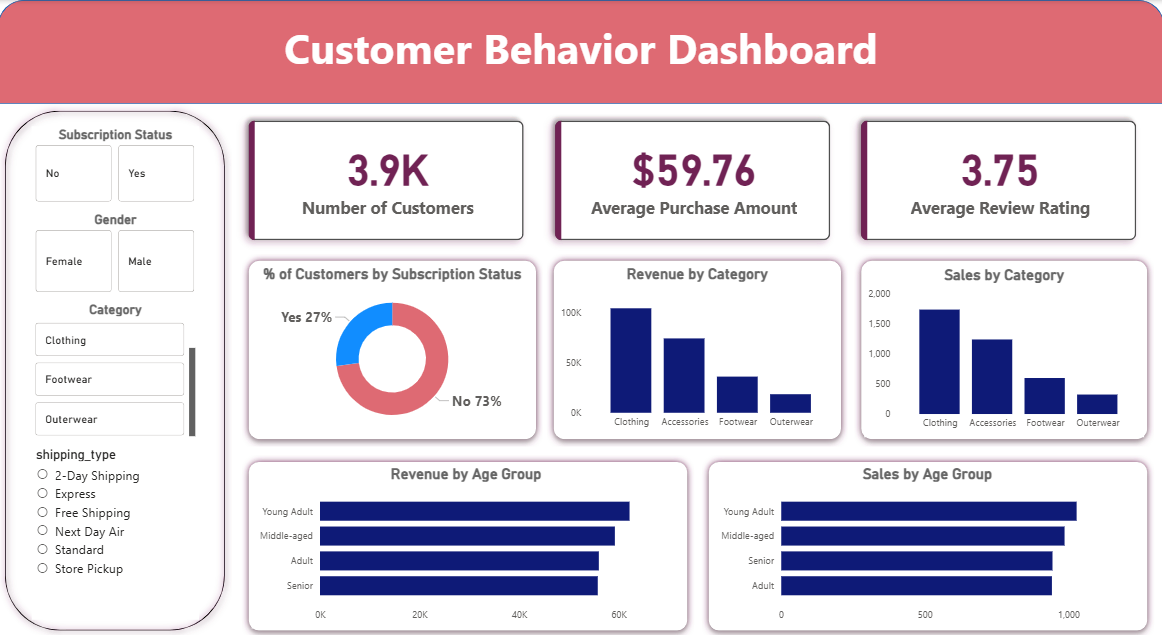

This screenshot's page, from the dashboard's own definition file:
{"tool":"powerbi","page":{"name":"Page 1","canvas":[1500,820],"ordinal":0},"visuals":[{"type":"cardVisual","fields":{"Data":["customer.Number of Customers","customer.Average Purchase Amount","customer.Average Review Rating"]},"box":[289.5,122.2,1210.9,220.3],"z":0},{"type":"shape","box":[0,0,1500.3,133.5],"z":1000},{"type":"textbox","box":[0,19.3,1500.3,114.2],"z":2000},{"type":"shape","box":[313.6,326.4,387.5,247.6],"z":3000},{"type":"donutChart","title":"% of Customers by Subscription Status","fields":{"Category":["customer.subscription_status"],"Y":["CountNonNull(customer.customer_id)"]},"box":[326.4,340.9,361.8,220.3],"z":4000},{"type":"shape","box":[705.9,326.4,387.5,247.6],"z":5000},{"type":"shape","box":[1101.5,326.4,385.9,247.6],"z":6000},{"type":"clusteredColumnChart","title":"Revenue by Category","fields":{"Y":["Sum(customer.purchase_amount)"],"Category":["customer.category"]},"box":[718.8,340.9,361.8,220.3],"z":7000},{"type":"clusteredColumnChart","title":"Sales by Category","fields":{"Y":["CountNonNull(customer.customer_id)"],"Category":["customer.category"]},"box":[1114.4,342.5,360.2,220.3],"z":8000},{"type":"shape","box":[0,133.5,300.7,686.6],"z":9000},{"type":"advancedSlicerVisual","title":"Subscription Status","fields":{"Values":["customer.subscription_status"]},"box":[43.4,162.4,215.5,102.9],"z":10000},{"type":"advancedSlicerVisual","title":"Gender","fields":{"Values":["customer.gender"]},"box":[43.4,271.8,215.5,109.3],"z":11000},{"type":"advancedSlicerVisual","title":"Category","fields":{"Values":["customer.category"]},"box":[43.4,387.5,215.5,175.3],"z":12000},{"type":"listSlicer","fields":{"Values":["customer.shipping_type"]},"box":[43.4,574.1,215.5,223.5],"z":13000},{"type":"shape","box":[313.6,585.3,582.1,234.8],"z":14000},{"type":"clusteredBarChart","title":"Revenue by Age Group","fields":{"Y":["Sum(customer.purchase_amount)"],"Category":["customer.age_group"]},"box":[326.4,598.2,551.6,210.7],"z":15000},{"type":"shape","box":[905.3,585.3,582.1,234.8],"z":16000},{"type":"clusteredBarChart","title":"Sales by Age Group","fields":{"Y":["CountNonNull(customer.customer_id)"],"Category":["customer.age_group"]},"box":[919.8,598.2,551.6,210.7],"z":17000}]}

Visuals, with their boxes in screenshot pixels (x1, y1, x2, y2), scaled from the page's 1500x820 canvas onto the 1162x635 screenshot:
cardVisual - customer.Number of Customers x customer.Average Purchase Amount: (x1=224, y1=95, x2=1161, y2=265)
shape: (x1=0, y1=0, x2=1161, y2=103)
textbox: (x1=0, y1=15, x2=1161, y2=103)
shape: (x1=243, y1=253, x2=543, y2=444)
"% of Customers by Subscription Status" donutChart: (x1=253, y1=264, x2=533, y2=435)
shape: (x1=547, y1=253, x2=847, y2=444)
shape: (x1=853, y1=253, x2=1152, y2=444)
"Revenue by Category" clusteredColumnChart: (x1=557, y1=264, x2=837, y2=435)
"Sales by Category" clusteredColumnChart: (x1=863, y1=265, x2=1142, y2=436)
shape: (x1=0, y1=103, x2=233, y2=634)
"Subscription Status" advancedSlicerVisual: (x1=34, y1=126, x2=201, y2=205)
"Gender" advancedSlicerVisual: (x1=34, y1=210, x2=201, y2=295)
"Category" advancedSlicerVisual: (x1=34, y1=300, x2=201, y2=436)
listSlicer - customer.shipping_type: (x1=34, y1=445, x2=201, y2=618)
shape: (x1=243, y1=453, x2=694, y2=634)
"Revenue by Age Group" clusteredBarChart: (x1=253, y1=463, x2=680, y2=626)
shape: (x1=701, y1=453, x2=1152, y2=634)
"Sales by Age Group" clusteredBarChart: (x1=713, y1=463, x2=1140, y2=626)
